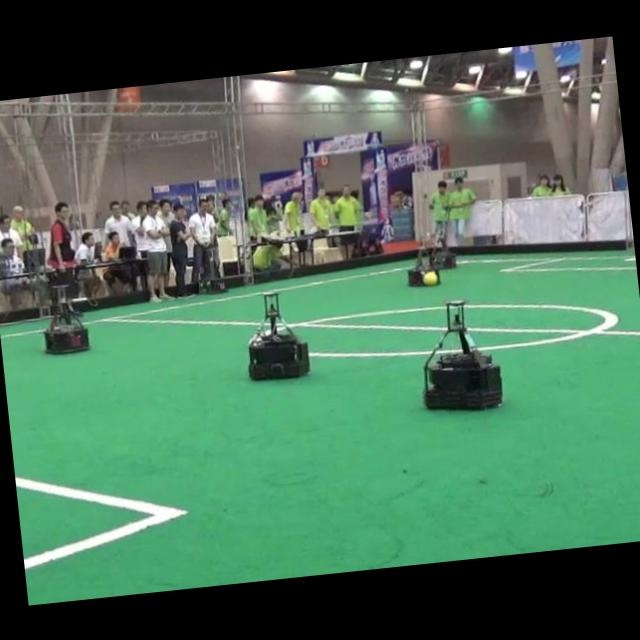ball: (422, 269, 438, 284)
robot: (423, 300, 502, 407), (248, 292, 309, 378), (43, 283, 87, 353), (430, 220, 455, 268), (408, 246, 438, 284)
